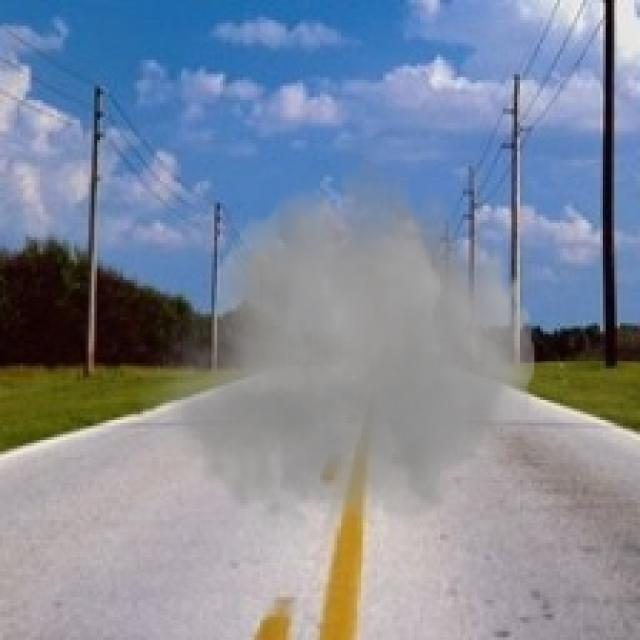Smoke: (134, 140, 546, 563)
